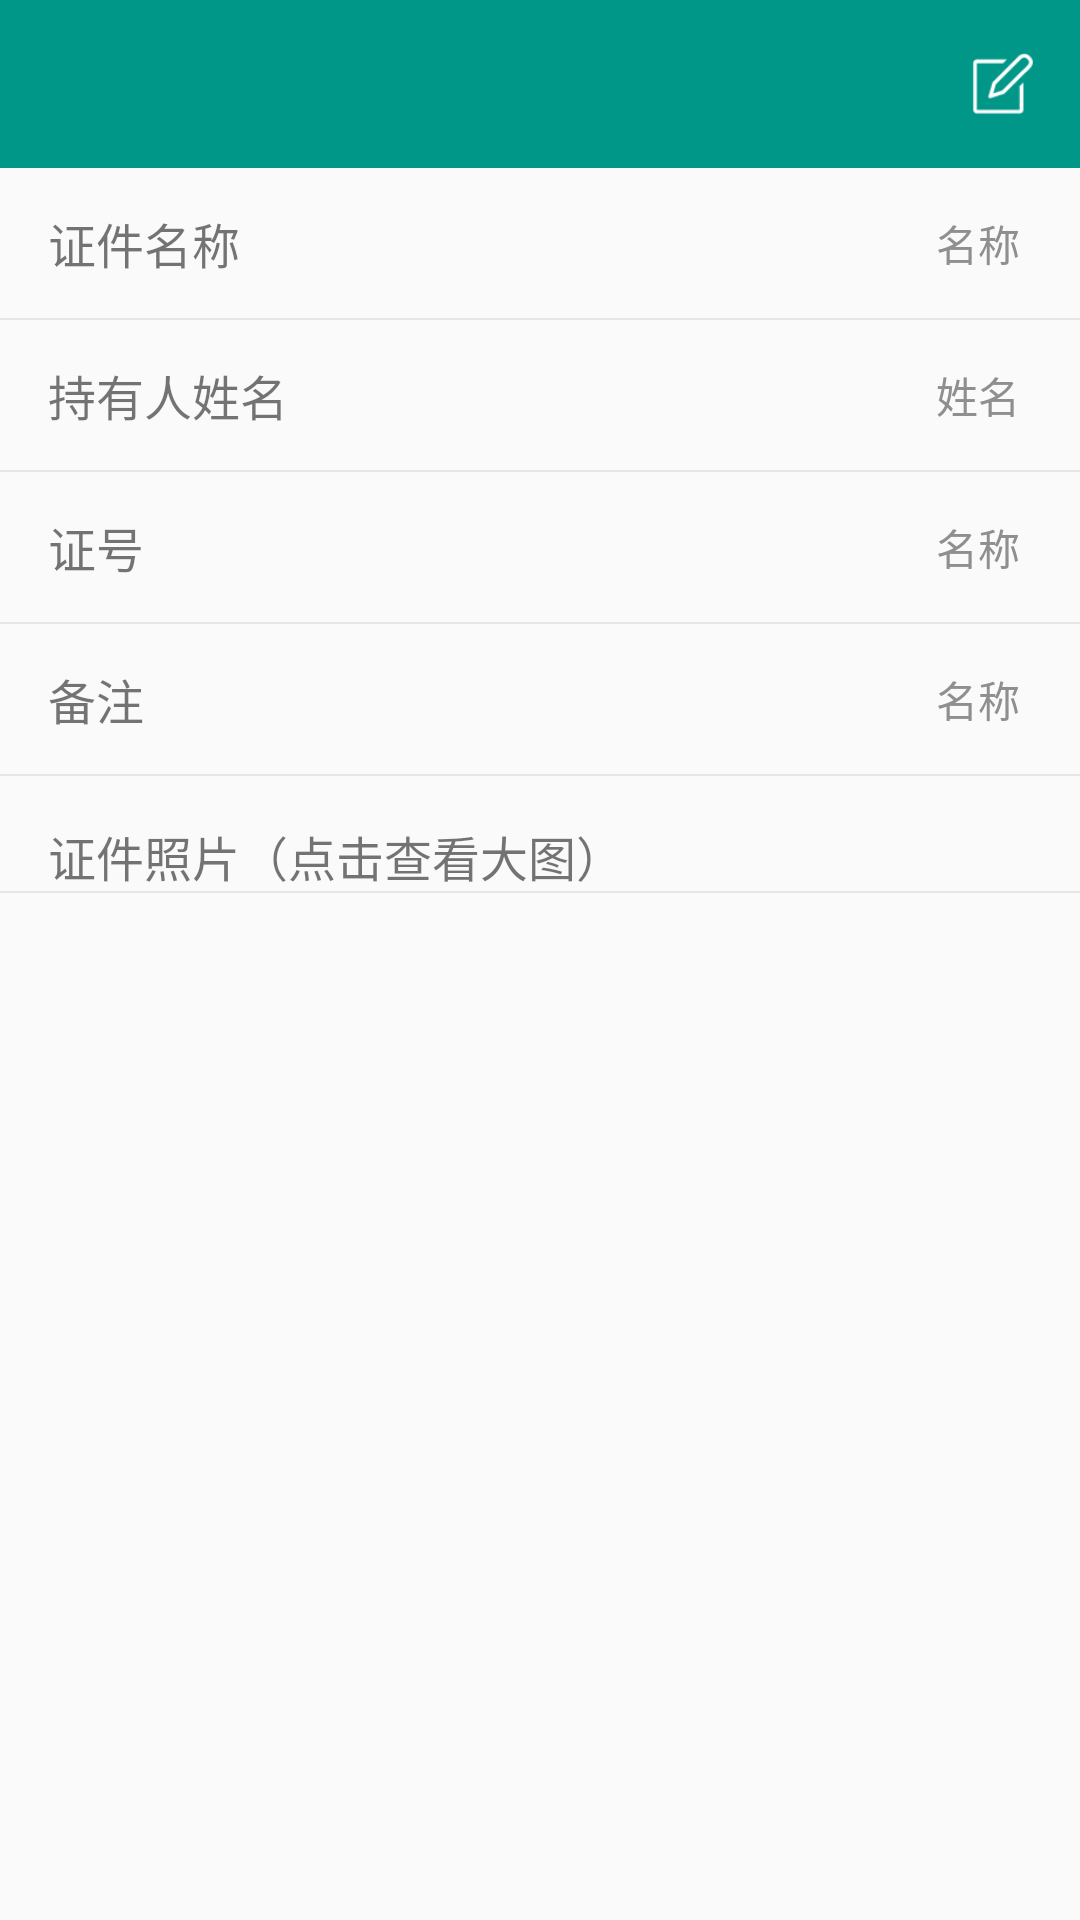

Point at icon controls on the screen. Image size 1080px x 1920px, points as point (x, y).
edit: point (1003, 83)
